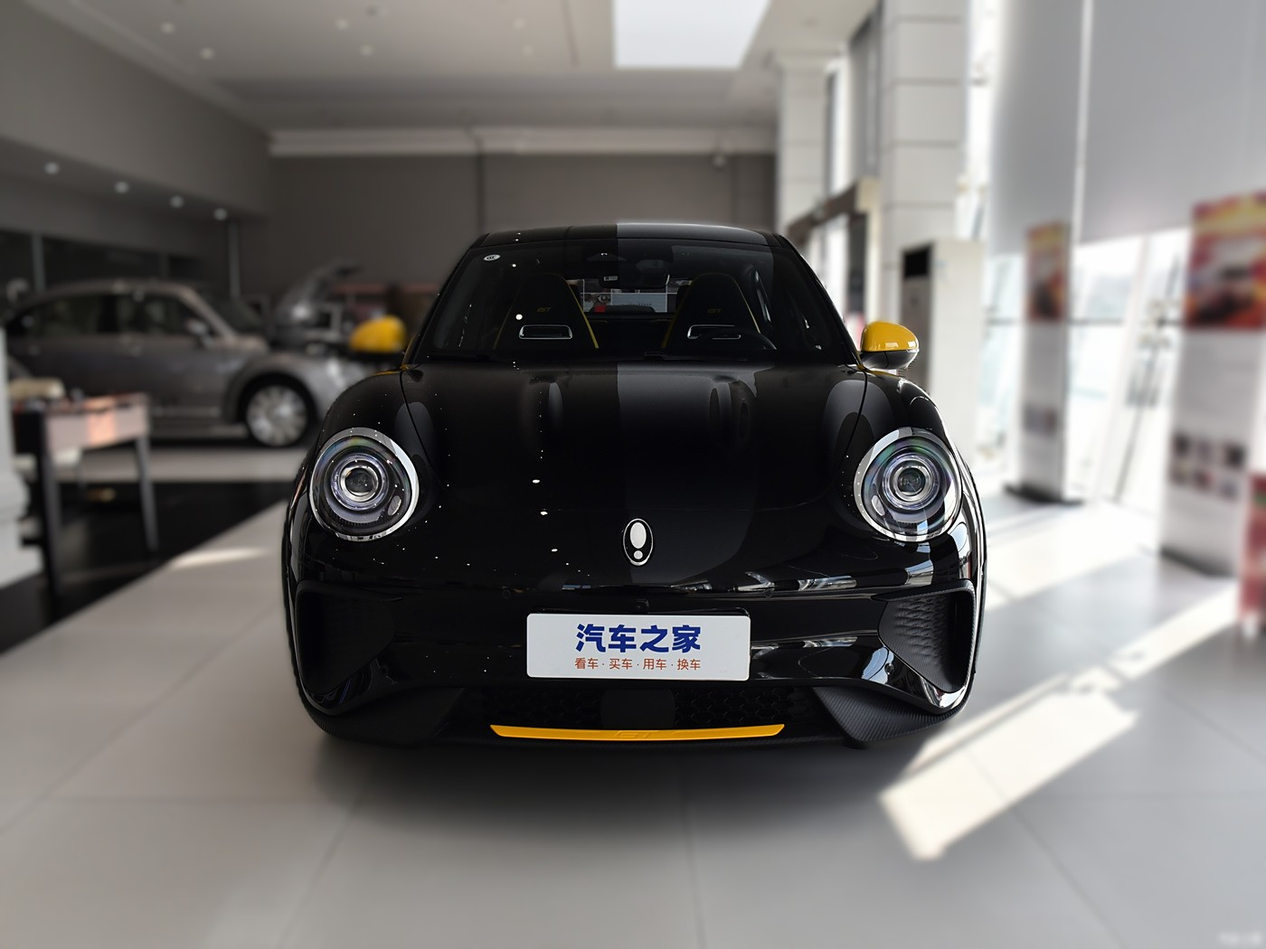ORA: (623, 519, 653, 565)
